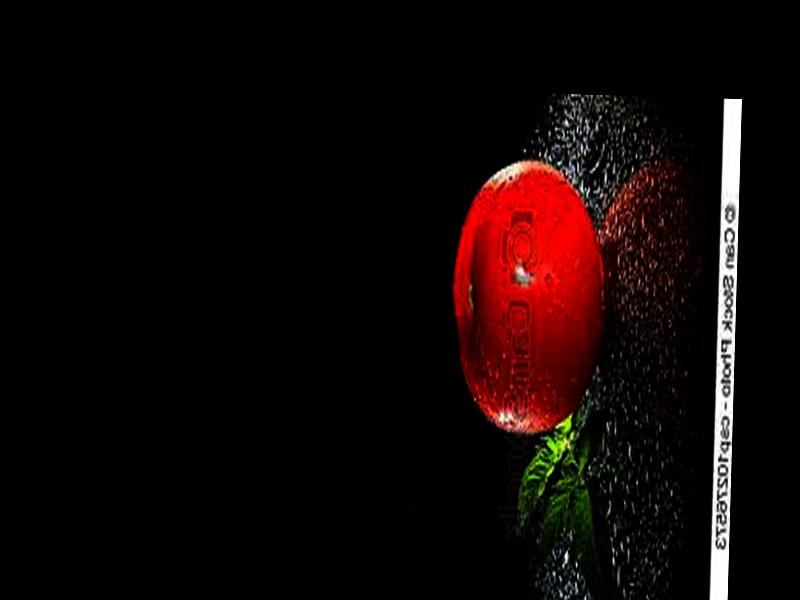Tomato: (448, 158, 607, 436)
